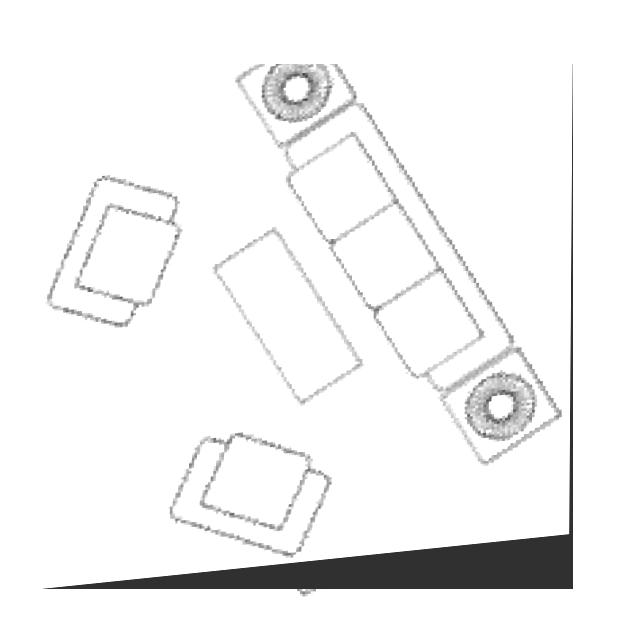sofa: (43, 64, 573, 589)
